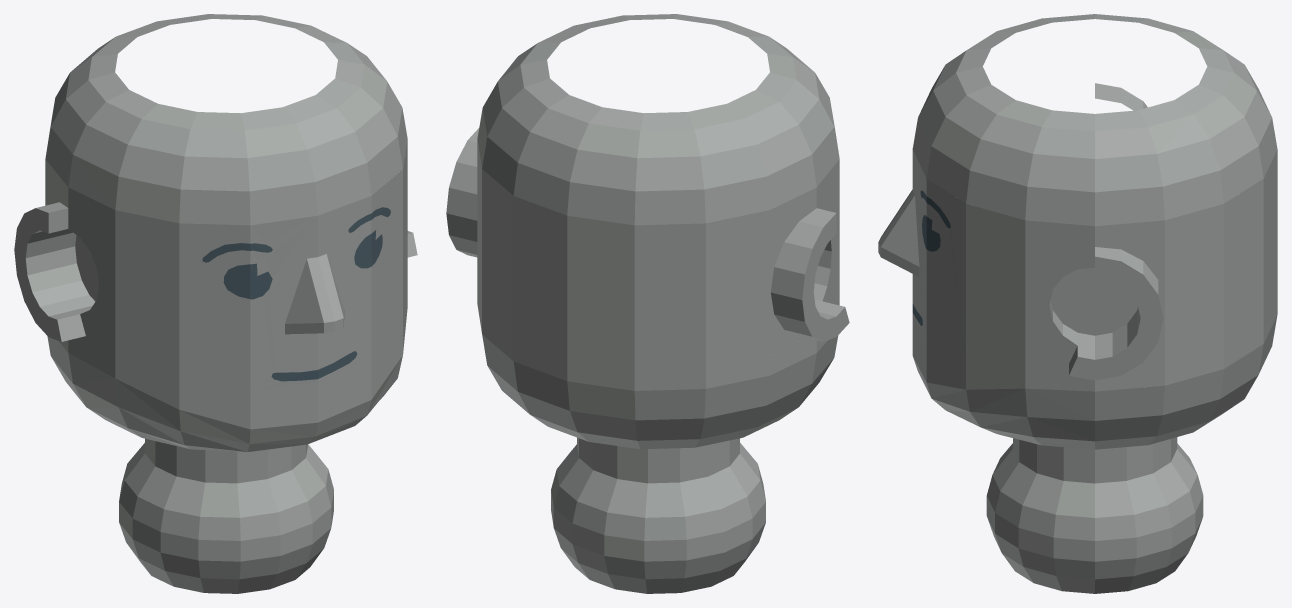
The picture shows the model from 3 angles, left to right: view 1: azimuth 30°, elevation 25°; view 2: azimuth 150°, elevation 25°; view 3: azimuth 270°, elevation 25°; orthographic projection.
Parts seen in each view (by area): view 1: world; view 2: world; view 3: world.
Part boxes in pixels (bbox=[...]): world: bbox=[14, 14, 417, 593]; world: bbox=[446, 14, 849, 593]; world: bbox=[878, 14, 1277, 593].
Bounding box in the file's own units: 0.0144 × 0.019 × 0.014.
